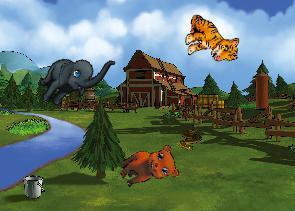bear: (114, 137, 184, 200)
elephant: (32, 34, 116, 122)
tiger: (183, 14, 240, 63)
